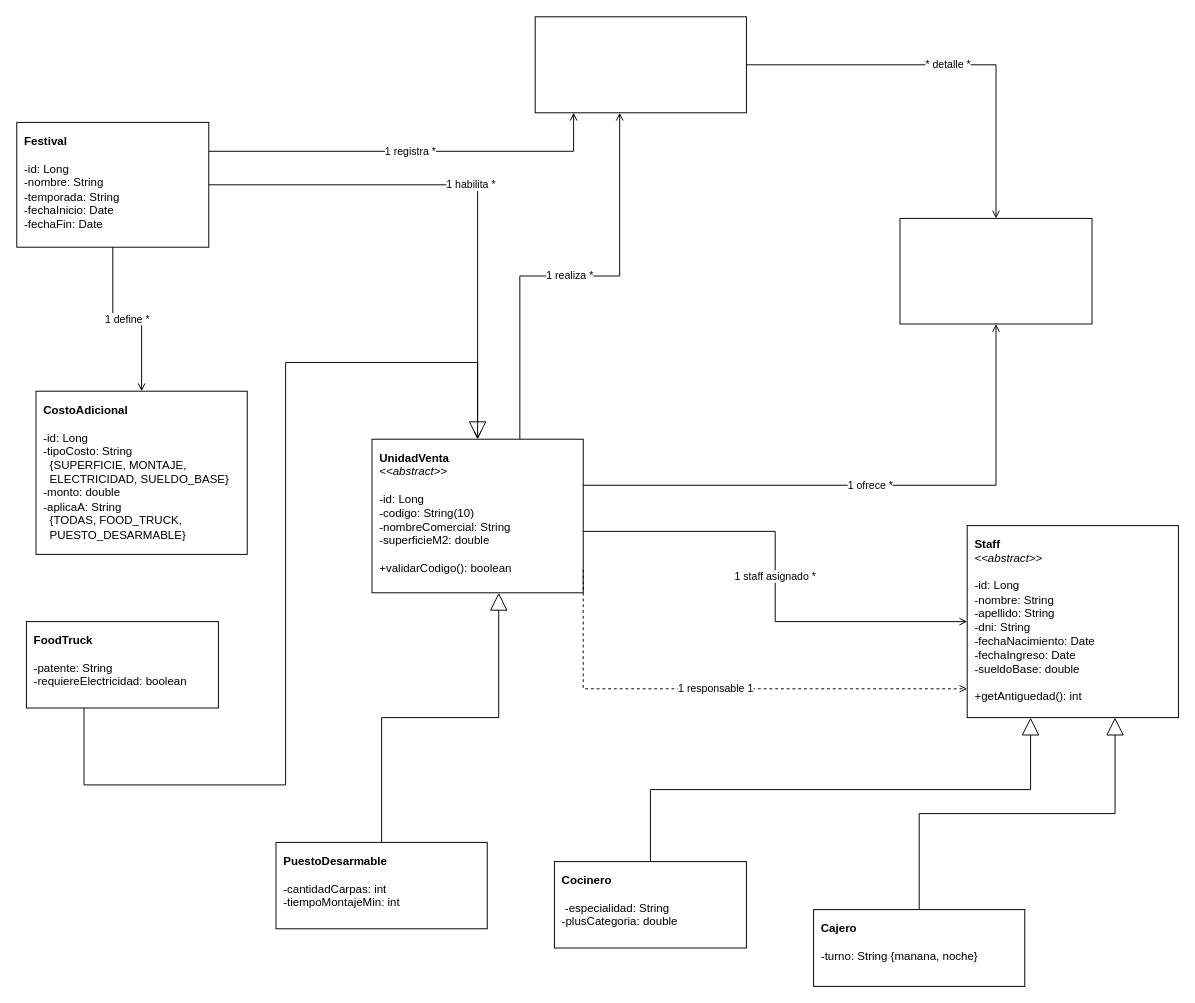
Image size: 1195x1003. Some labels were removed from this diagram. Each missing label, with the box of its shape:
Pedido -id: Long -fecha: Date -detalle: Map<Plato, Integer>: (534, 16, 746, 113)
Plato -id: Long -nombre: String -precioVenta: double -costoProduccion: double: (899, 217, 1092, 324)
